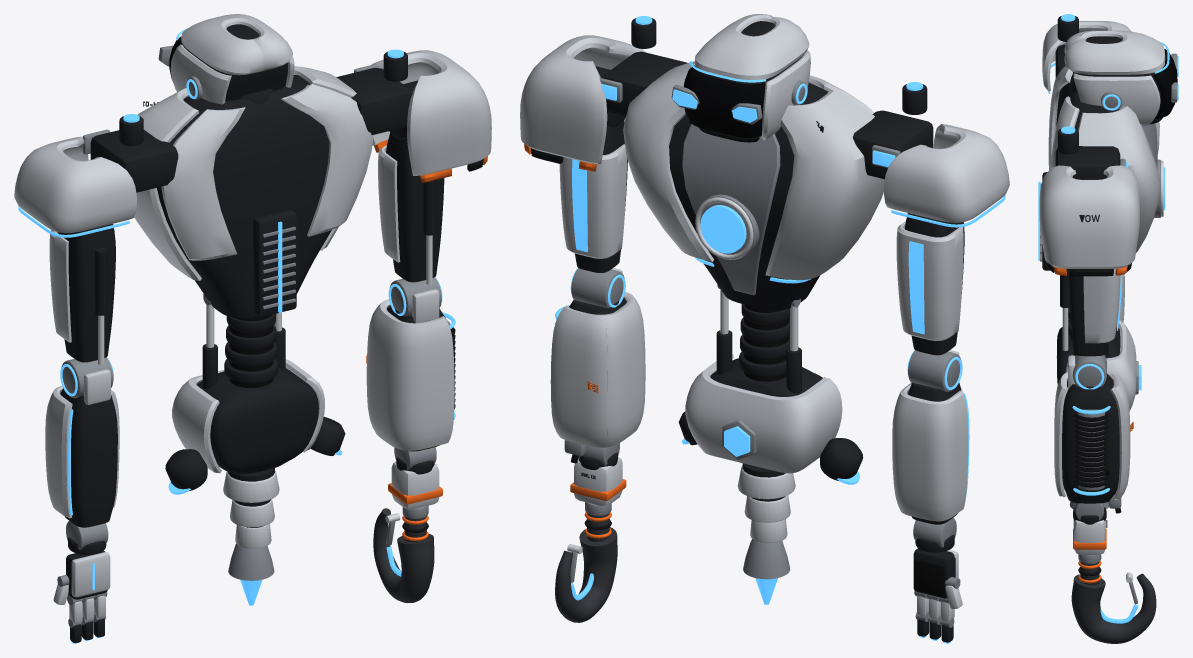
Rendered from hook.glb.
3 views of the same model, side by side, from view 1: azimuth 30°, elevation 25°; view 2: azimuth 150°, elevation 25°; view 3: azimuth 270°, elevation 25° (orthographic). The views are drawn at different scales.
Parts seen in each view (by area): view 1: CHEST_mesh, BODY_mesh, ARM_1_mesh, ARM_0_mesh, ELBOW_1_mesh, ELBOW_0_mesh, HEAD_mesh, HAND_1_mesh, HAND_0_mesh, WRIST_0_mesh, WRIST_1_mesh; view 2: CHEST_mesh, BODY_mesh, ARM_1_mesh, ARM_0_mesh, ELBOW_1_mesh, HEAD_mesh, ELBOW_0_mesh, HAND_1_mesh, HAND_0_mesh, CORE, WRIST_0_mesh, WRIST_1_mesh; view 3: ARM_1_mesh, CHEST_mesh, ELBOW_1_mesh, HEAD_mesh, HAND_1_mesh, BODY_mesh, ARM_0_mesh, WRIST_1_mesh, ELBOW_0_mesh.
Part boxes in pixels (x1=…): CHEST_mesh: x1=90, y1=49, x2=412, y2=318; BODY_mesh: x1=82, y1=64, x2=378, y2=605; ARM_1_mesh: x1=371, y1=50, x2=491, y2=284; ARM_0_mesh: x1=14, y1=136, x2=136, y2=364; ELBOW_1_mesh: x1=366, y1=277, x2=455, y2=451; ELBOW_0_mesh: x1=45, y1=357, x2=119, y2=527; HEAD_mesh: x1=158, y1=14, x2=294, y2=104; HAND_1_mesh: x1=373, y1=461, x2=442, y2=603; HAND_0_mesh: x1=66, y1=550, x2=110, y2=599; WRIST_0_mesh: x1=66, y1=521, x2=108, y2=554; WRIST_1_mesh: x1=394, y1=447, x2=436, y2=474; CHEST_mesh: x1=603, y1=16, x2=933, y2=310; BODY_mesh: x1=599, y1=78, x2=900, y2=604; ARM_1_mesh: x1=520, y1=35, x2=645, y2=272; ARM_0_mesh: x1=884, y1=124, x2=1009, y2=355; ELBOW_1_mesh: x1=550, y1=268, x2=645, y2=463; HEAD_mesh: x1=671, y1=14, x2=810, y2=142; ELBOW_0_mesh: x1=892, y1=350, x2=969, y2=524; HAND_1_mesh: x1=555, y1=457, x2=626, y2=622; HAND_0_mesh: x1=913, y1=548, x2=958, y2=598; CORE: x1=700, y1=205, x2=746, y2=253; WRIST_0_mesh: x1=913, y1=517, x2=956, y2=552; WRIST_1_mesh: x1=578, y1=443, x2=619, y2=470; ARM_1_mesh: x1=1039, y1=165, x2=1139, y2=356; CHEST_mesh: x1=1038, y1=14, x2=1163, y2=270; ELBOW_1_mesh: x1=1054, y1=355, x2=1133, y2=513; HEAD_mesh: x1=1064, y1=30, x2=1177, y2=125; HAND_1_mesh: x1=1071, y1=520, x2=1156, y2=643; BODY_mesh: x1=1056, y1=158, x2=1138, y2=509; ARM_0_mesh: x1=1042, y1=21, x2=1131, y2=93; WRIST_1_mesh: x1=1073, y1=503, x2=1106, y2=524; ELBOW_0_mesh: x1=1117, y1=274, x2=1124, y2=322.
Bounding box in the file's own units: 1.24 × 1.65 × 0.3897.
